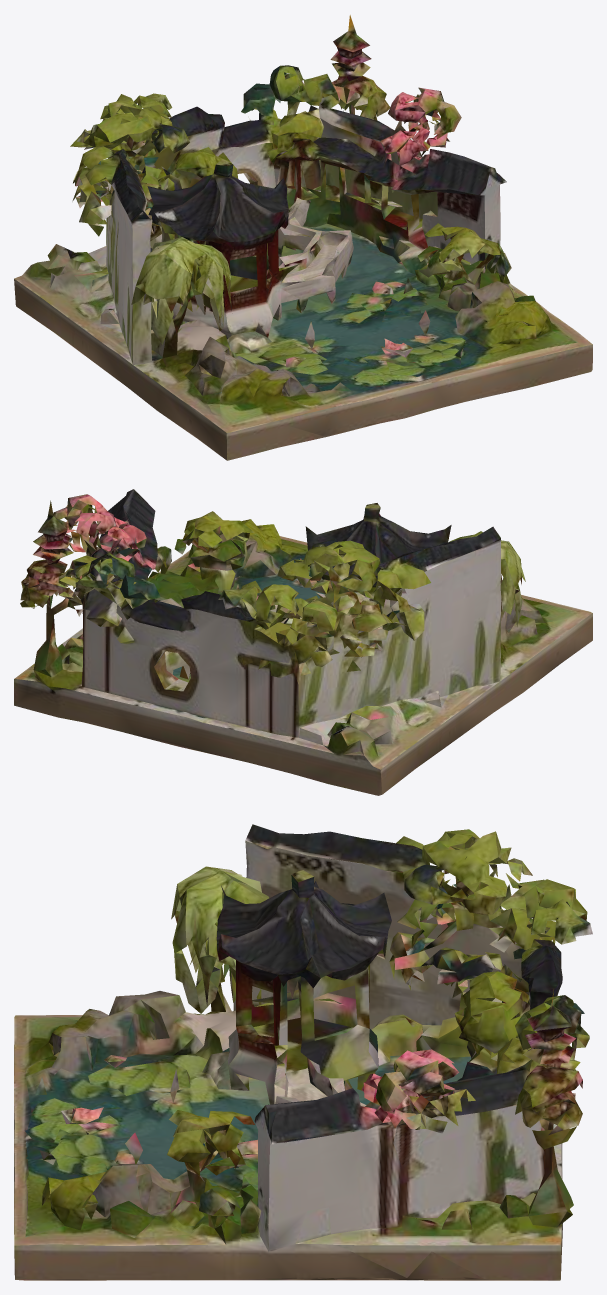
Rendered from humble-administrator-garden.glb.
The picture shows the model from 3 angles, top to bottom: view 1: azimuth 30°, elevation 25°; view 2: azimuth 150°, elevation 25°; view 3: azimuth 270°, elevation 25°; orthographic projection. The views are drawn at different scales.
Visible parts, largest first — view 1: logan-textured.obj; view 2: logan-textured.obj; view 3: logan-textured.obj.
Part boxes in pixels (bbox=[...]): logan-textured.obj: bbox=[14, 15, 592, 460]; logan-textured.obj: bbox=[14, 489, 592, 795]; logan-textured.obj: bbox=[14, 824, 592, 1280].
Bounding box in the file's own units: 0.9947 × 0.525 × 1.
Materials: 1 (1 with a texture image).
